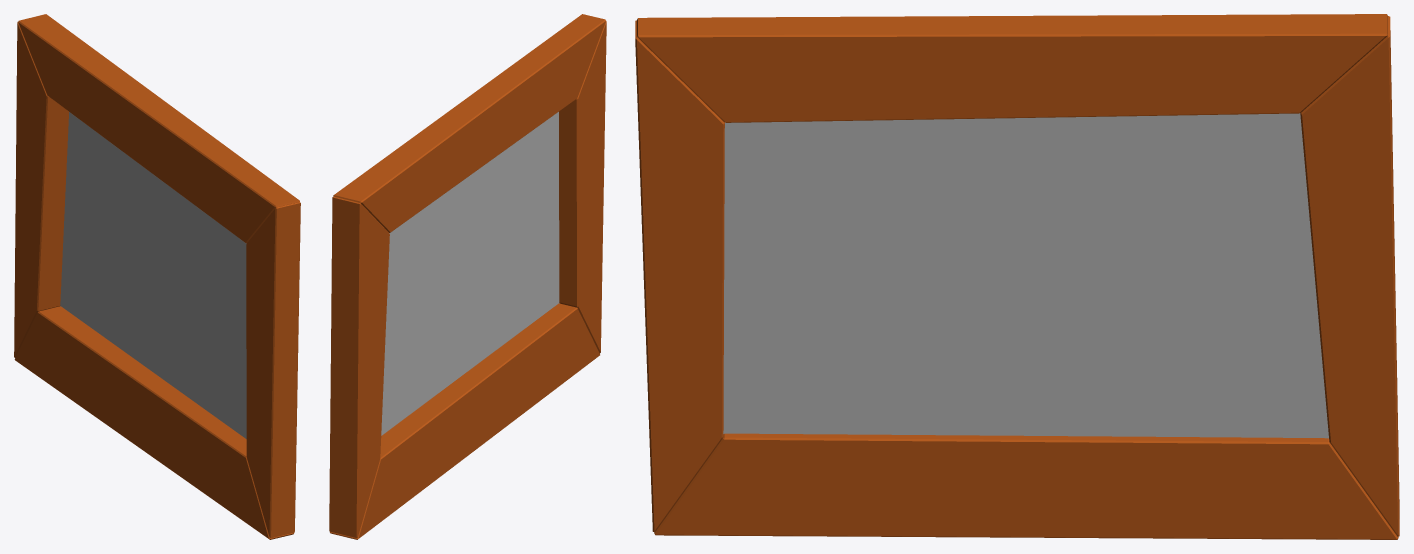
File: Picture_01.glb
3 views of the same model, side by side, from view 1: azimuth 30°, elevation 25°; view 2: azimuth 150°, elevation 25°; view 3: azimuth 270°, elevation 25° (orthographic). The views are drawn at different scales.
Visible parts, largest first — view 1: Picture1; view 2: Picture1; view 3: Picture1.
Boxes of the visible parts, x1,y1,x2,y2 form: Picture1: (14, 14, 300, 539); Picture1: (329, 14, 606, 539); Picture1: (635, 14, 1399, 539).
Size of the model in its own units: 0.0642 by 0.716 by 0.9801.
